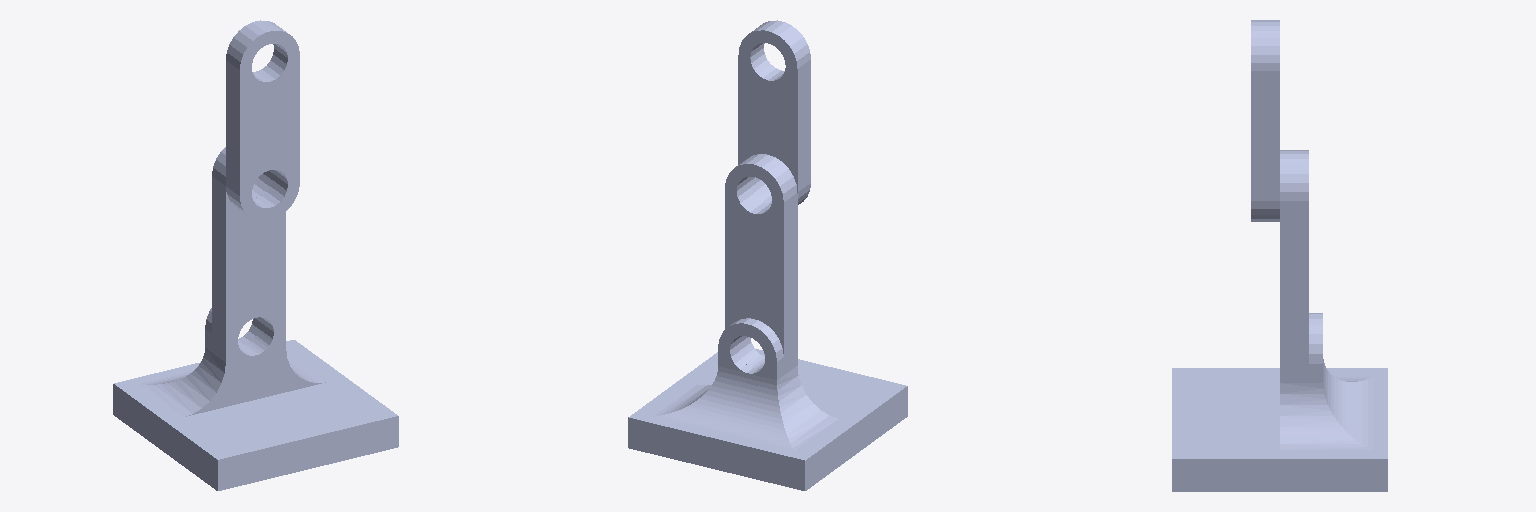
robot.urdf — rr_bot_urdf:
<?xml version="1.0" encoding="utf-8"?>
<!-- This URDF was automatically created by SolidWorks to URDF Exporter! Originally created by [author] ([email redacted]) 
     Commit Version: 1.6.0-4-g7f85cfe  Build Version: 1.6.7995.38578
     For more information, please see http://wiki.ros.org/sw_urdf_exporter -->
<robot
  name="rr_bot_urdf">
  <link
    name="base_link">
    <inertial>
      <origin
        xyz="1.9008E-08 0.0067687 0.037794"
        rpy="0 0 0" />
      <mass
        value="5.4631" />
      <inertia
        ixx="0.042316"
        ixy="-5.546E-11"
        ixz="-3.2982E-09"
        iyy="0.04216"
        iyz="-0.0019163"
        izz="0.070852" />
    </inertial>
    <visual>
      <origin
        xyz="0 0 0"
        rpy="0 0 0" />
      <geometry>
        <mesh
          filename="package://rr_bot_urdf/meshes/base_link.STL" />
      </geometry>
      <material
        name="">
        <color
          rgba="0.79216 0.81961 0.93333 1" />
      </material>
    </visual>
    <collision>
      <origin
        xyz="0 0 0"
        rpy="0 0 0" />
      <geometry>
        <mesh
          filename="package://rr_bot_urdf/meshes/base_link.STL" />
      </geometry>
    </collision>
  </link>
  <link
    name="link_1">
    <inertial>
      <origin
        xyz="0.125 -0.02 2.7756E-17"
        rpy="0 0 0" />
      <mass
        value="1.088" />
      <inertia
        ixx="0.0011239"
        ixy="2.9603E-20"
        ixz="-1.757E-18"
        iyy="0.0093737"
        iyz="-3.4615E-19"
        izz="0.00854" />
    </inertial>
    <visual>
      <origin
        xyz="0 0 0"
        rpy="0 0 0" />
      <geometry>
        <mesh
          filename="package://rr_bot_urdf/meshes/link_1.STL" />
      </geometry>
      <material
        name="">
        <color
          rgba="0.79216 0.81961 0.93333 1" />
      </material>
    </visual>
    <collision>
      <origin
        xyz="0 0 0"
        rpy="0 0 0" />
      <geometry>
        <mesh
          filename="package://rr_bot_urdf/meshes/link_1.STL" />
      </geometry>
    </collision>
  </link>
  <joint
    name="joint_1"
    type="revolute">
    <origin
      xyz="0 0 0.15"
      rpy="3.1416 -1.5708 0" />
    <parent
      link="base_link" />
    <child
      link="link_1" />
    <axis
      xyz="0 -1 0" />
    <limit
      lower="-1.57"
      upper="1.57"
      effort="200"
      velocity="3" />
  </joint>
  <link
    name="Link_2">
    <inertial>
      <origin
        xyz="-0.1 0.02 2.7756E-17"
        rpy="0 0 0" />
      <mass
        value="0.88796" />
      <inertia
        ixx="0.00093052"
        ixy="-1.8824E-19"
        ixz="-5.876E-19"
        iyy="0.0058372"
        iyz="2.9431E-19"
        izz="0.0051435" />
    </inertial>
    <visual>
      <origin
        xyz="0 0 0"
        rpy="0 0 0" />
      <geometry>
        <mesh
          filename="package://rr_bot_urdf/meshes/Link_2.STL" />
      </geometry>
      <material
        name="">
        <color
          rgba="0.79216 0.81961 0.93333 1" />
      </material>
    </visual>
    <collision>
      <origin
        xyz="0 0 0"
        rpy="0 0 0" />
      <geometry>
        <mesh
          filename="package://rr_bot_urdf/meshes/Link_2.STL" />
      </geometry>
    </collision>
  </link>
  <joint
    name="joint_2"
    type="revolute">
    <origin
      xyz="0.25 0 0"
      rpy="3.1416 0 3.1416" />
    <parent
      link="link_1" />
    <child
      link="Link_2" />
    <axis
      xyz="0 -1 0" />
    <limit
      lower="-1.57"
      upper="1.57"
      effort="200"
      velocity="3" />
  </joint>
</robot>

--- Facts derived from the render (not from the file) ---
3 views of the same robot in one strip: view 1: azimuth 30°, elevation 25°; view 2: azimuth 150°, elevation 25°; view 3: azimuth 270°, elevation 25° (orthographic).
Robot: rr_bot_urdf — 3 links, 2 joints (2 revolute); root link base_link; default pose: every joint at zero.
Visible links, largest first — view 1: base_link, Link_2, link_1; view 2: base_link, link_1, Link_2; view 3: base_link, link_1, Link_2.
Link boxes in pixels (x1=…): base_link: x1=113, y1=304, x2=398, y2=490; Link_2: x1=226, y1=20, x2=299, y2=220; link_1: x1=212, y1=147, x2=285, y2=368; base_link: x1=628, y1=318, x2=907, y2=490; link_1: x1=725, y1=154, x2=797, y2=368; Link_2: x1=738, y1=20, x2=810, y2=204; base_link: x1=1172, y1=313, x2=1387, y2=491; link_1: x1=1280, y1=150, x2=1308, y2=363; Link_2: x1=1251, y1=20, x2=1279, y2=221.
Size in the robot's own frame: 0.3 by 0.3 by 0.6496 metres.
3 mesh visuals loaded from 3 distinct referenced files (3 binary STL).